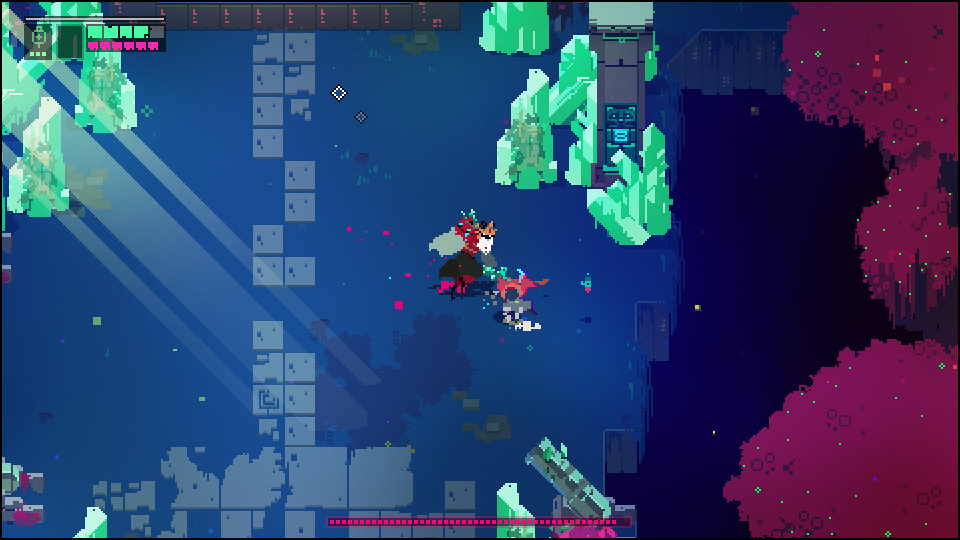hanged_man: (427, 206, 521, 302)
player: (492, 276, 540, 317)
